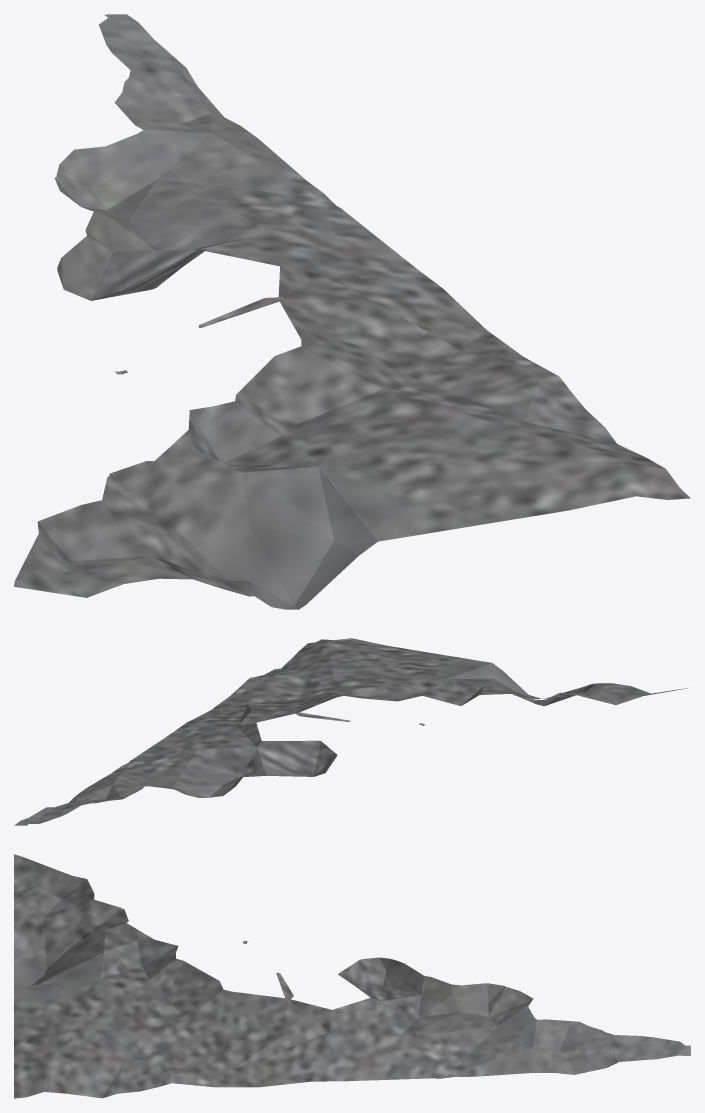
3 views of the same model, one above another, from view 1: azimuth 30°, elevation 25°; view 2: azimuth 150°, elevation 25°; view 3: azimuth 270°, elevation 25° (orthographic). The views are drawn at different scales.
Bounding box in the file's own units: 0.5804 × 0.0762 × 0.8374.
Materials: 1 (1 with a texture image).
